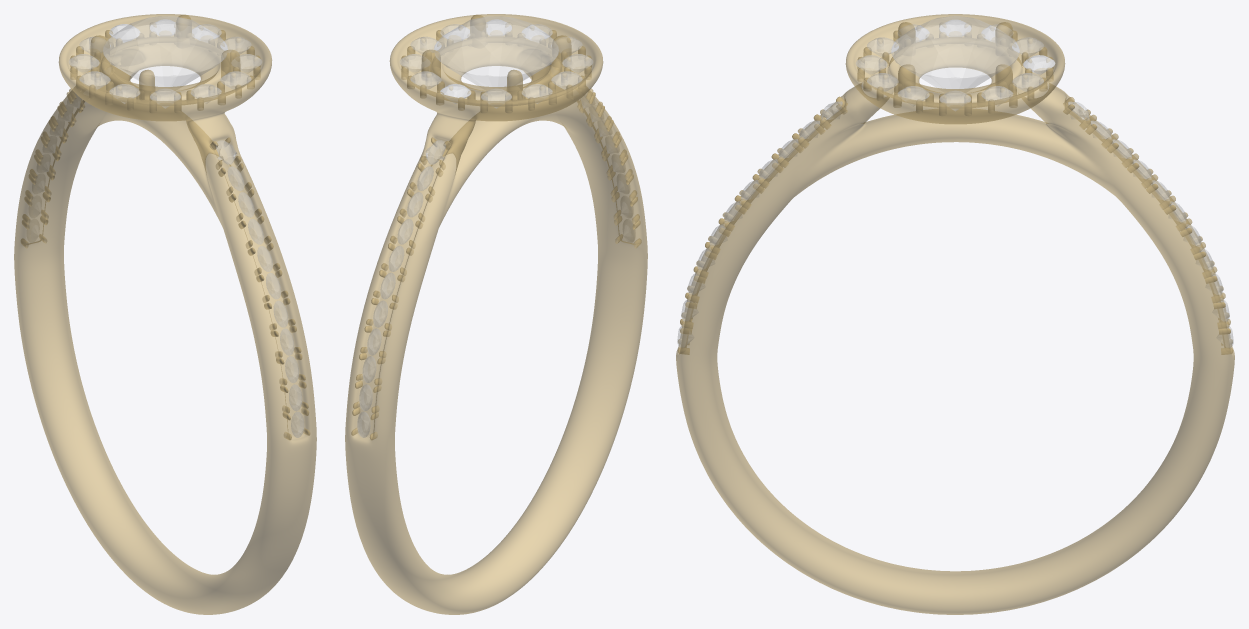
The picture shows the model from 3 angles, left to right: view 1: azimuth 30°, elevation 25°; view 2: azimuth 150°, elevation 25°; view 3: azimuth 270°, elevation 25°; orthographic projection. The views are drawn at different scales.
Visible parts, largest first — view 1: Ring, Diamond; view 2: Ring, Diamond; view 3: Ring, Diamond.
Part boxes in pixels (left/top/right/bottom): Ring: left=14, top=14, right=316, bottom=614; Diamond: left=27, top=16, right=303, bottom=437; Ring: left=345, top=14, right=647, bottom=614; Diamond: left=357, top=16, right=634, bottom=437; Ring: left=676, top=14, right=1234, bottom=614; Diamond: left=677, top=16, right=1233, bottom=347.
Bounding box in the file's own units: 0.904 × 2.64 × 2.3.
